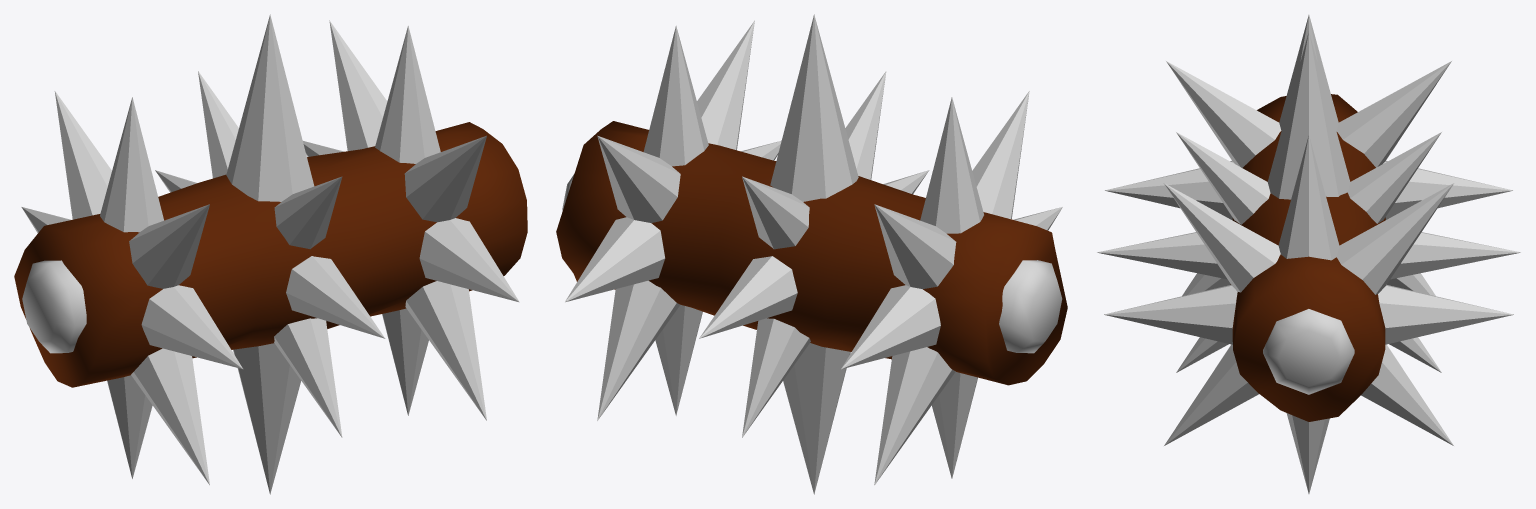
Rendered from TroncoNormaluV.fbx.
The picture shows the model from 3 angles, left to right: view 1: azimuth 30°, elevation 25°; view 2: azimuth 150°, elevation 25°; view 3: azimuth 270°, elevation 25°; orthographic projection. The views are drawn at different scales.
Visible parts, largest first — view 1: Circle.003; view 2: Circle.003; view 3: Circle.003.
Part boxes in pixels (<box>): Circle.003: <box>14,14,527,494</box>; Circle.003: <box>556,14,1067,494</box>; Circle.003: <box>1097,15,1520,493</box>.
Bounding box in the file's own units: 341 × 336 × 292.
